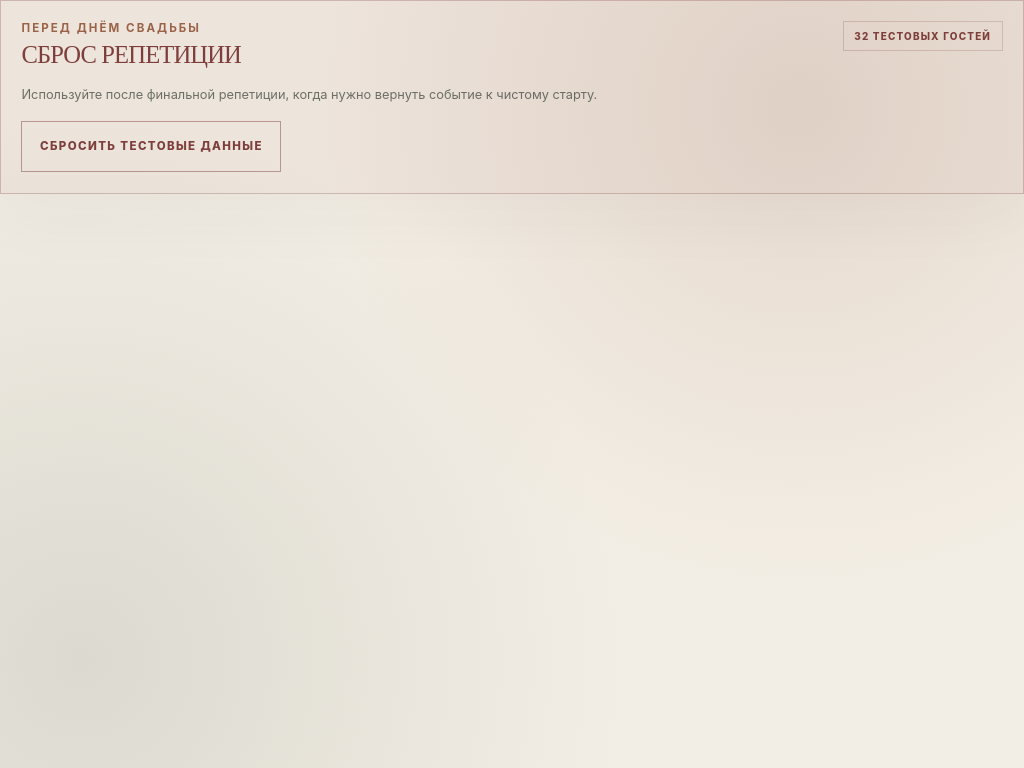
AdminTestResetPanel › requires an explicit typed confirmation and explains what survives the reset
Click the button "СБРОСИТЬ ТЕСТОВЫЕ ДАННЫЕ": (151, 146) [22,121,281,172]
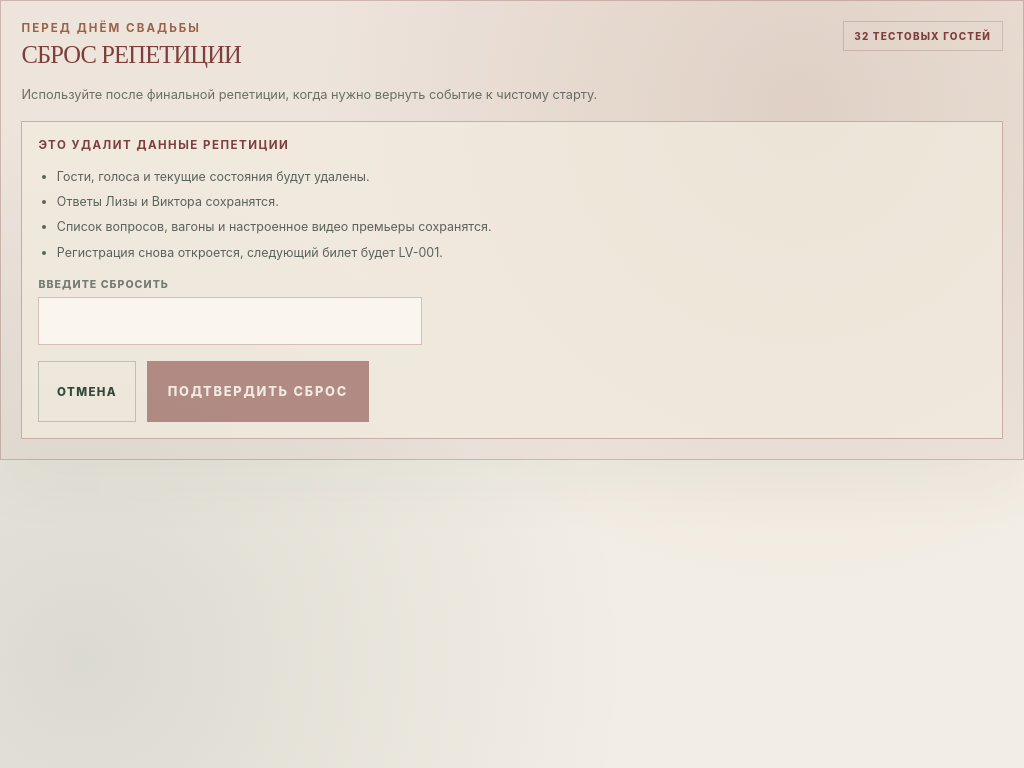
Now the list item "Ответы Лизы и Виктора сохранятся." is shown, box [57,194,279,209]
Now the list item "настроенное видео премьеры" is shown, box [57,220,492,234]
Now the list item "Гости, голоса и текущие состояния будут удалены." is shown, box [57,169,370,184]
In the field labelled "Введите СБРОСИТЬ": (230, 321) [38,297,422,345], type "СБРОСИТЬ"
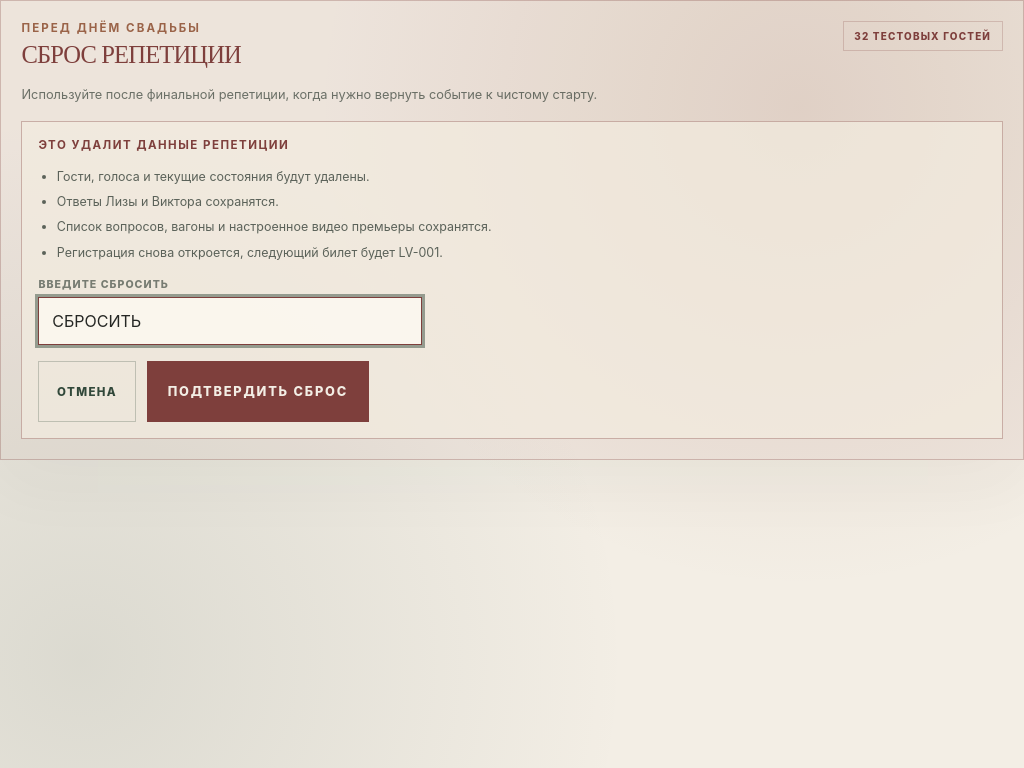
Now the button "ПОДТВЕРДИТЬ СБРОС" is enabled
Click the button "ПОДТВЕРДИТЬ СБРОС": (258, 392) [147,361,369,422]
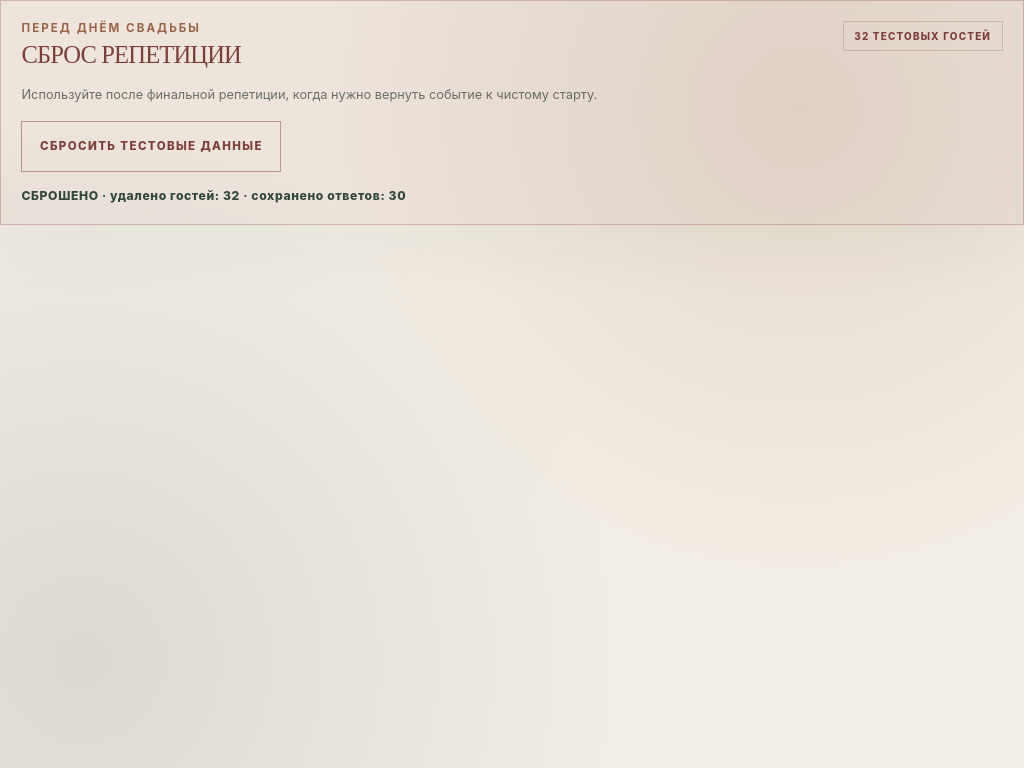
Now the text "СБРОШЕНО · удалено гостей: 32 · сохранено ответов: 30" is shown, box [22,188,406,203]
